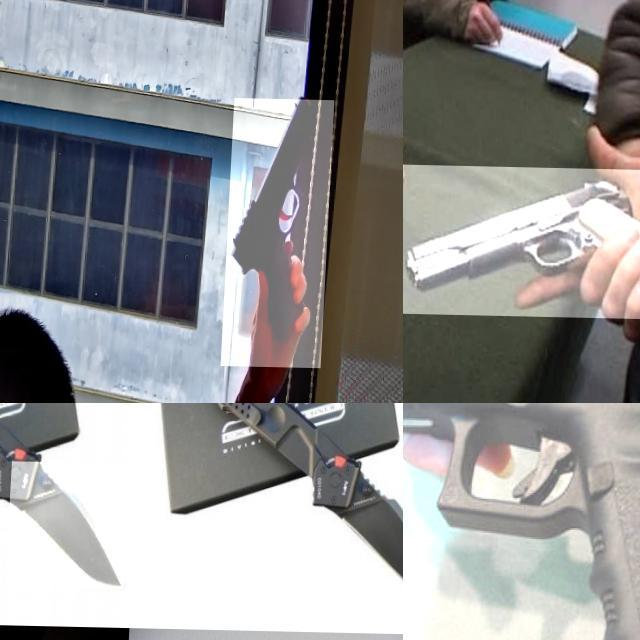-: (8, 460, 132, 588), (328, 466, 403, 593)
gun-knife-thesis - v11 Yolov5 augmented: (403, 403, 640, 640), (403, 163, 640, 317), (226, 96, 336, 366), (403, 262, 490, 403)
